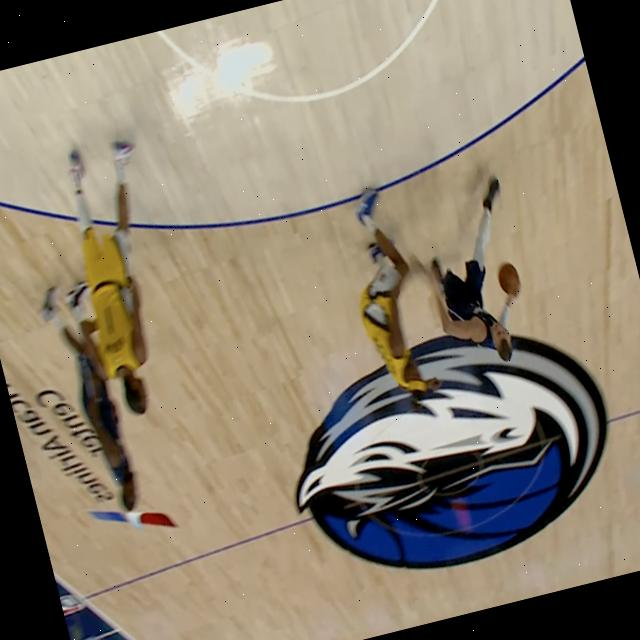no foul: (0, 106, 246, 546), (292, 113, 578, 484)
